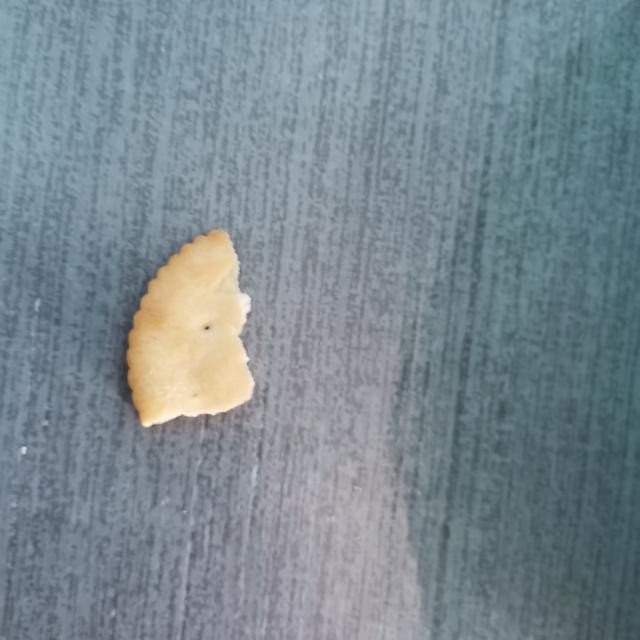Broken: (125, 228, 255, 428)
